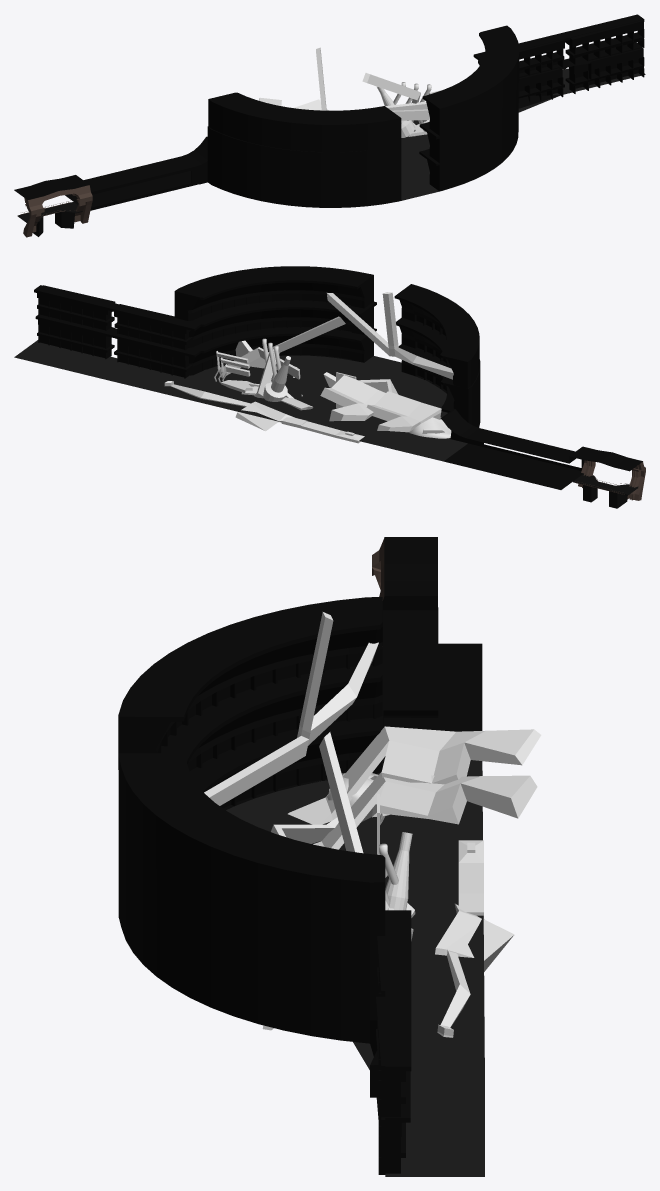
File: reference.fbx
3 views of the same model, one above another, from view 1: azimuth 30°, elevation 25°; view 2: azimuth 150°, elevation 25°; view 3: azimuth 270°, elevation 25° (orthographic). The views are drawn at different scales.
Visible parts, largest first — view 1: reference; view 2: reference; view 3: reference.
Part boxes in pixels (x1,y1,x2,y2): reference: (14, 14, 645, 237); reference: (14, 266, 645, 508); reference: (118, 537, 541, 1176).
Size of the model in its own units: 48267 by 10336 by 14638.
